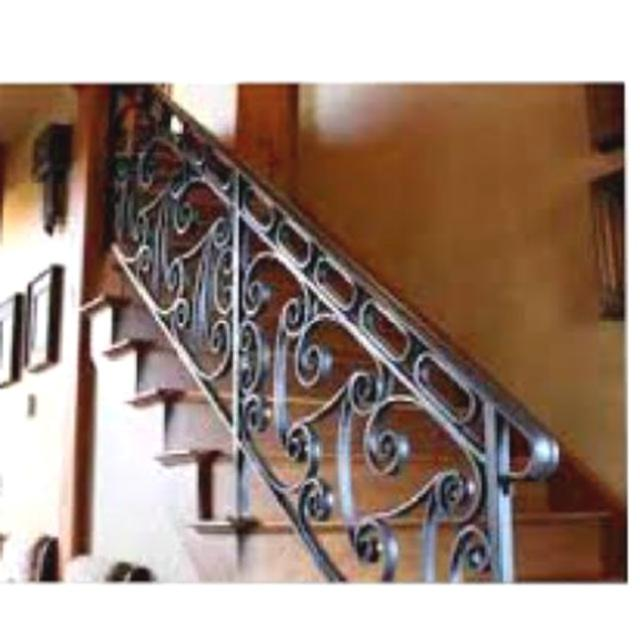stair: (77, 88, 628, 582)
